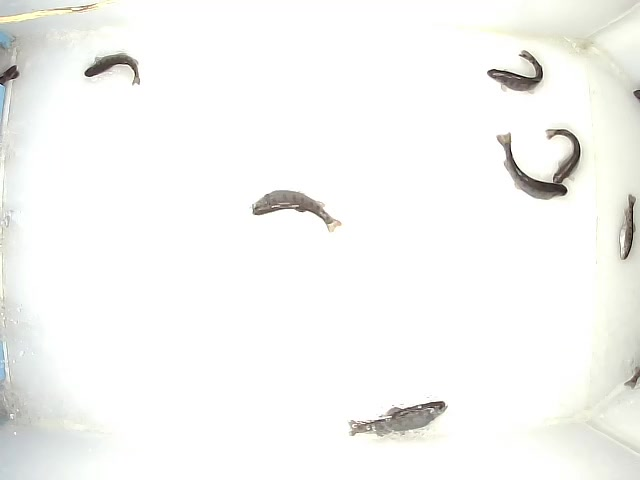fish: (496, 132, 568, 201), (247, 189, 342, 233), (348, 400, 450, 439), (486, 49, 544, 95), (545, 128, 582, 185), (83, 52, 141, 87), (618, 194, 637, 261)
